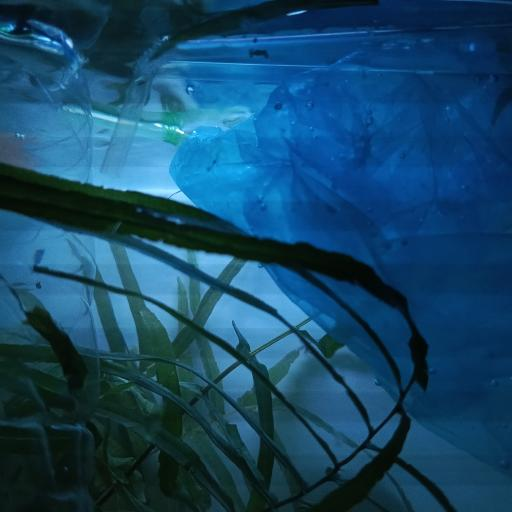plastic_bag: (170, 34, 512, 474)
plastic_bottle: (3, 21, 100, 512)
plastic_straw: (104, 18, 512, 167)
